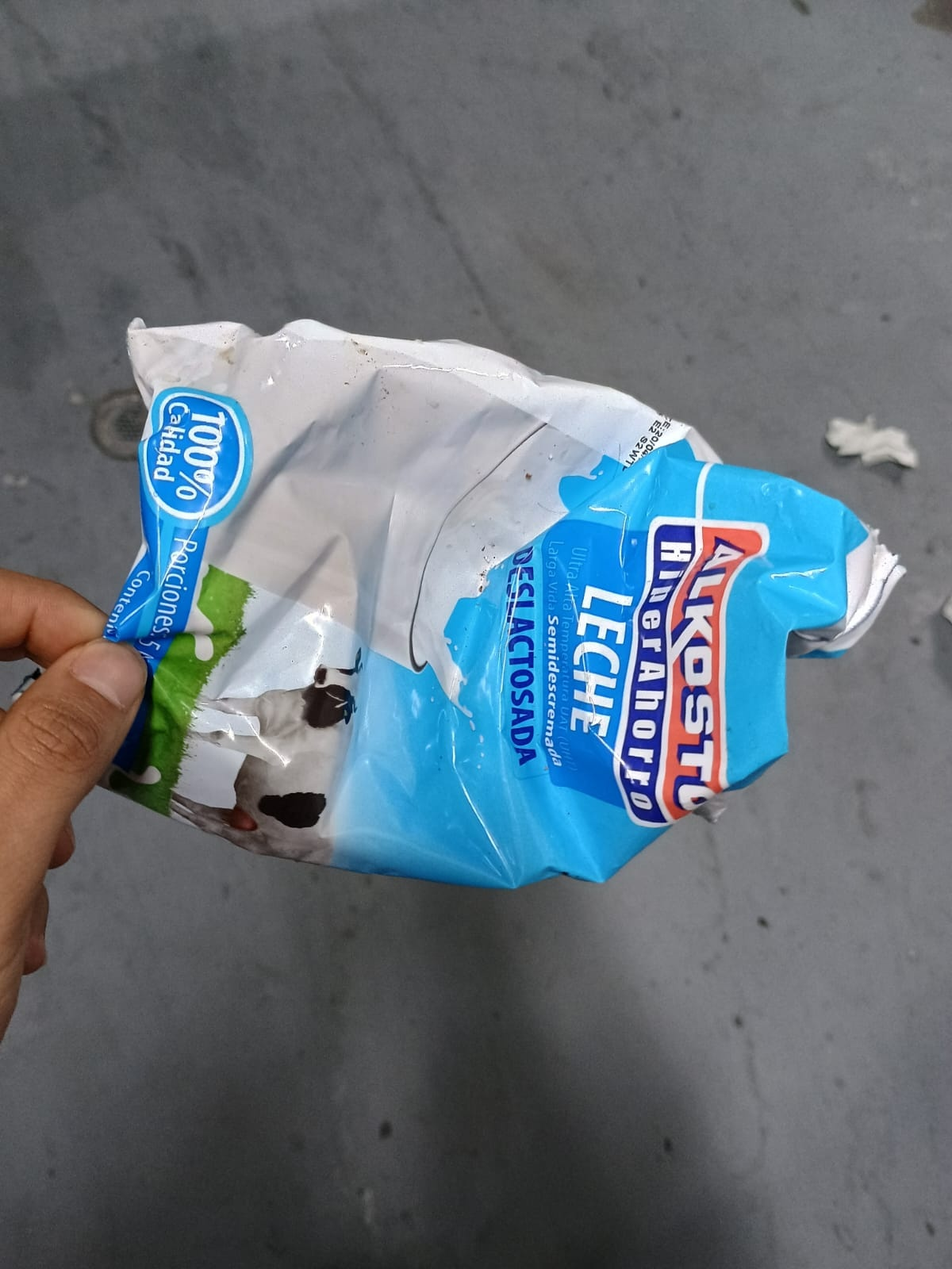Ordinario: (80, 315, 908, 888)
